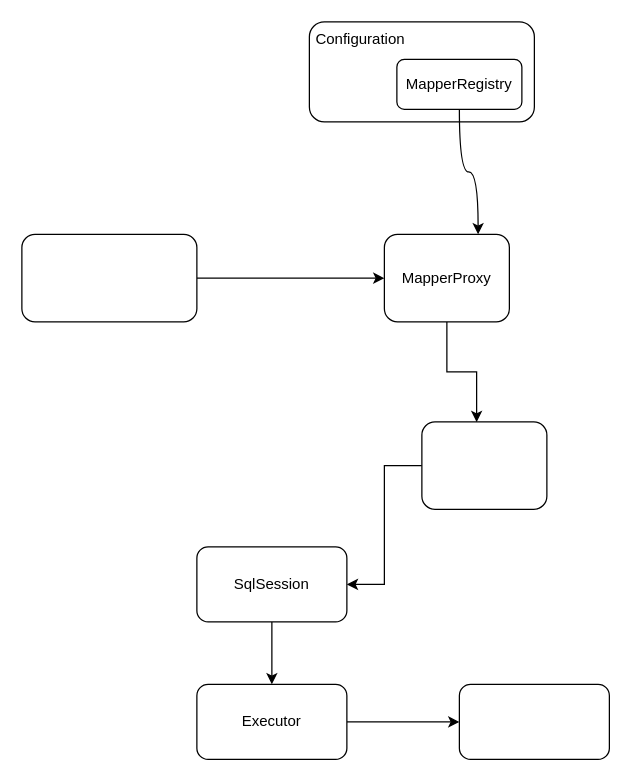
Image size: 631x781. Some labels were removed from this diagram. Each missing label, with the box of its shape:
MapperMethod: (421, 421, 547, 509)
MapperProxyFactory: (21, 233, 197, 322)
StatementHandler: (458, 683, 609, 759)
